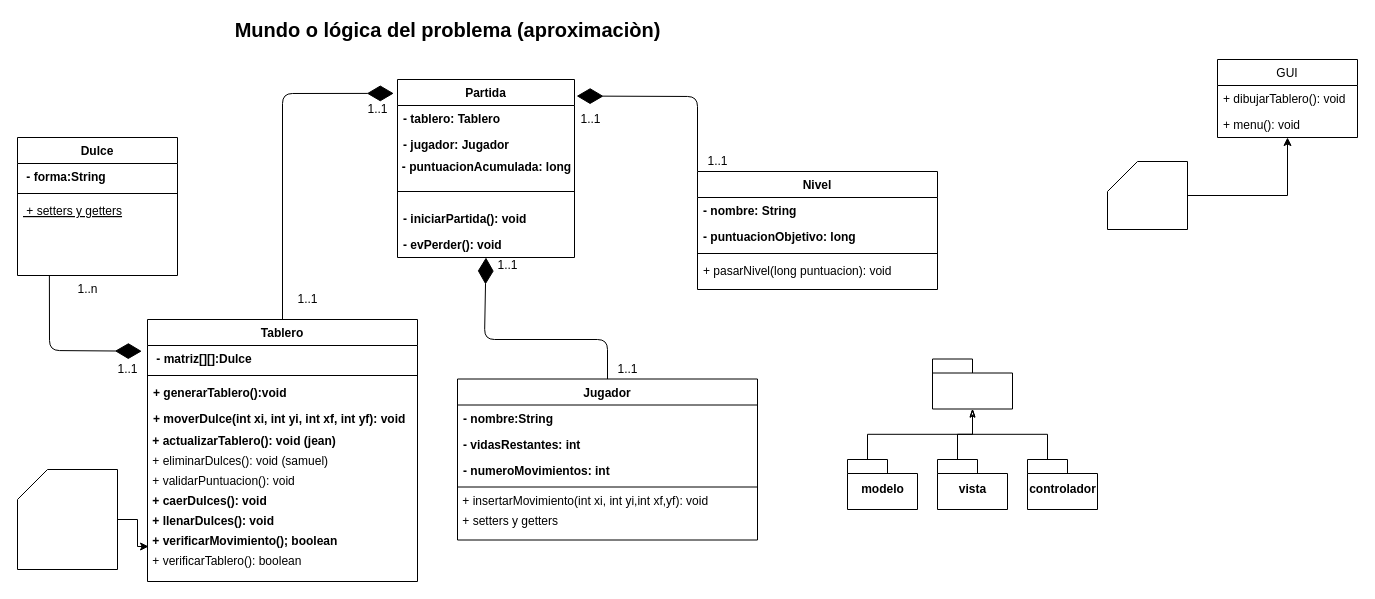
Some shapes in this 1375 by 599 pixel diagram are drawn without their labels. The shapes that lost their labels are listed below. From the top down, each one's centre as x and y in pixels, then its label:
At [1147,195]: "En proceso por consola".
At [972,383]: "CandyCrush".
At [67,519]: "verificar movimiento (si forma una lìnea, admite el movimiento)".
